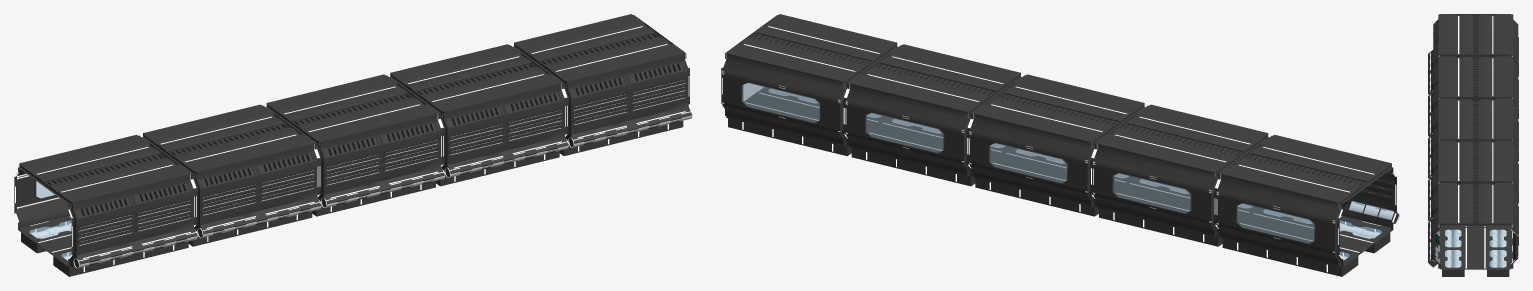
The picture shows the model from 3 angles, left to right: view 1: azimuth 30°, elevation 25°; view 2: azimuth 150°, elevation 25°; view 3: azimuth 270°, elevation 25°; orthographic projection. The views are drawn at different scales.
Visible parts, largest first — view 1: modulo; view 2: modulo; view 3: modulo.
Boxes of the visible parts, x1,y1,x2,y2 form: modulo: [14, 14, 692, 276]; modulo: [721, 14, 1399, 276]; modulo: [1428, 14, 1518, 276].
Size of the model in its own units: 40 by 4.71 by 7.26.
Materials: 5 (5 with a texture image).
